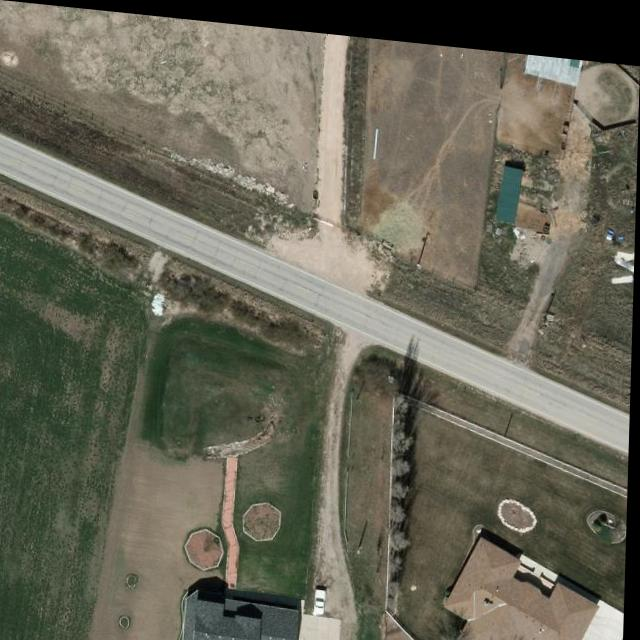vehicle: (318, 582, 331, 609)
